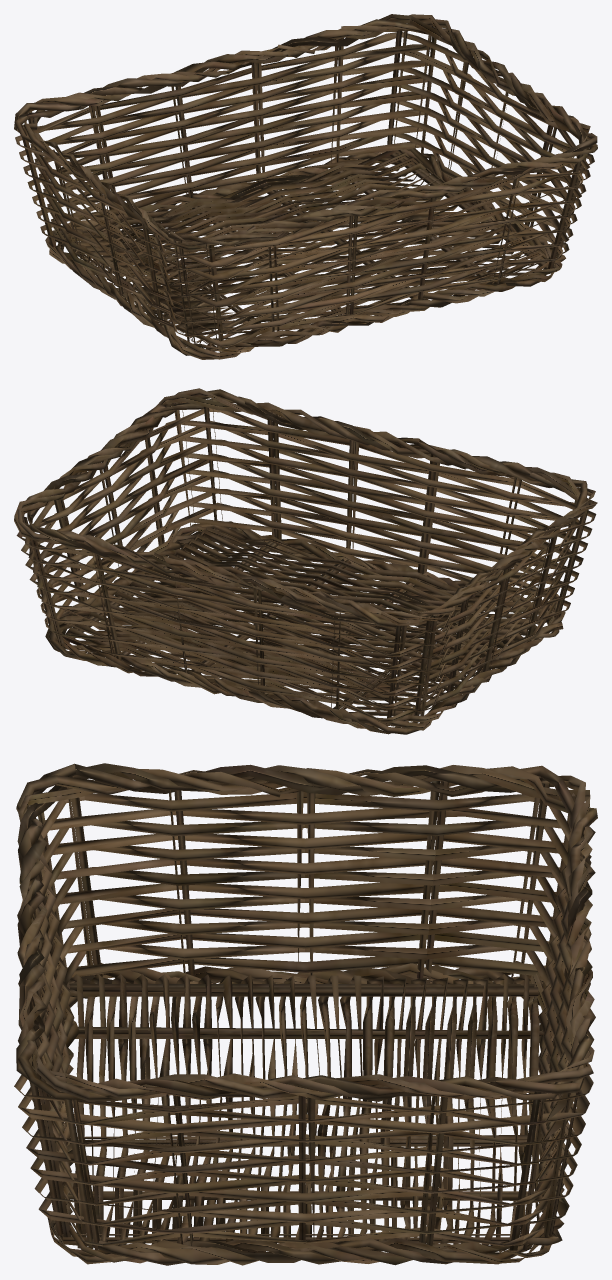
File: wicker_basket_01.glb
3 views of the same model, one above another, from view 1: azimuth 30°, elevation 25°; view 2: azimuth 150°, elevation 25°; view 3: azimuth 270°, elevation 25° (orthographic). The views are drawn at different scales.
Parts seen in each view (by area): view 1: wicker_basket_01; view 2: wicker_basket_01; view 3: wicker_basket_01.
Part boxes in pixels (<box>): wicker_basket_01: <box>14,14,597,359</box>; wicker_basket_01: <box>14,388,597,734</box>; wicker_basket_01: <box>14,763,597,1265</box>.
Bounding box in the file's own units: 0.383 × 0.1174 × 0.2939.
Materials: 1 (1 with a texture image).
